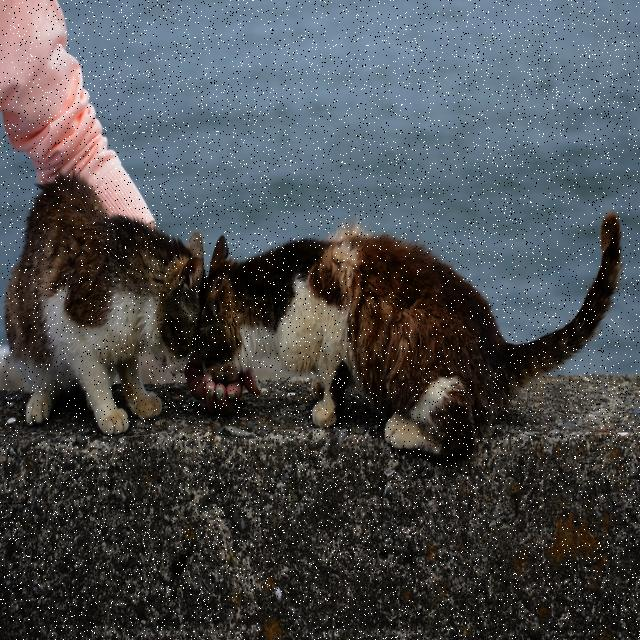cat: (198, 213, 621, 459), (5, 174, 204, 434)
